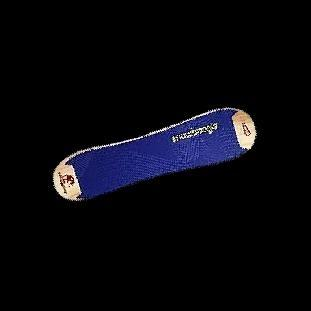Snowboard: (52, 106, 257, 201)
